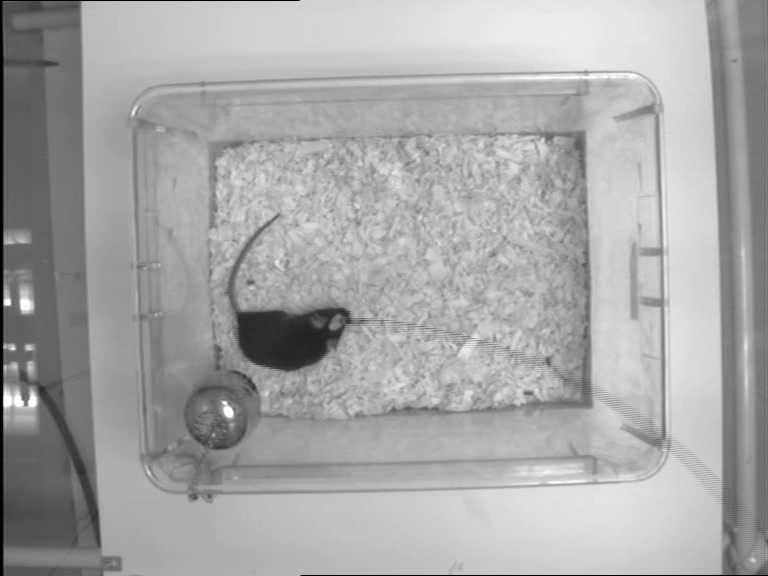mice: (226, 212, 352, 373)
